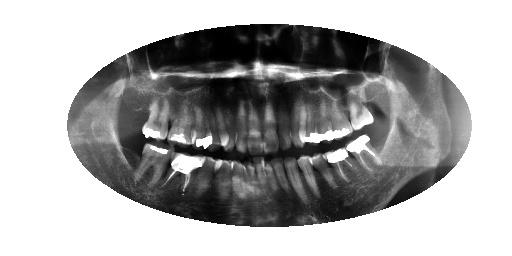i10healthy: (246, 157, 254, 197)
i11healthy: (231, 161, 246, 203)
i12healthy: (215, 159, 231, 200)
i13healthy: (196, 157, 218, 197)
i14healthy: (165, 154, 203, 194)
i15healthy: (131, 144, 176, 188)
i2healthy: (343, 134, 379, 175)
i3heatlthy: (325, 146, 359, 183)
i4healthy: (310, 152, 337, 191)
i5healthy: (297, 155, 323, 199)
i6healthy: (285, 154, 311, 207)
i7healthy: (272, 157, 292, 193)
i8healthy: (266, 156, 275, 196)
i9healthy: (254, 156, 265, 196)
u10healthy: (236, 100, 249, 154)
u11healthy: (224, 100, 236, 153)
u12healthy: (217, 98, 231, 149)
u13healthy: (206, 107, 219, 151)
u14healthy: (191, 102, 212, 151)
u15healthy: (168, 99, 196, 146)
u16healthy: (140, 96, 175, 141)
u1healthy: (347, 90, 378, 131)
u2healthy: (328, 91, 353, 141)
u3healthy: (315, 93, 336, 141)
u4healthy: (311, 99, 323, 143)
u5healthy: (300, 98, 313, 145)
u6healthy: (289, 95, 305, 150)
u7healthy: (276, 103, 291, 151)
u8healthy: (261, 98, 280, 156)
u9decay: (248, 98, 262, 156)
